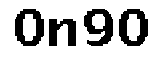0: (119, 3, 151, 52), (13, 6, 45, 47)
9: (82, 5, 116, 54)
n: (48, 15, 79, 51)
